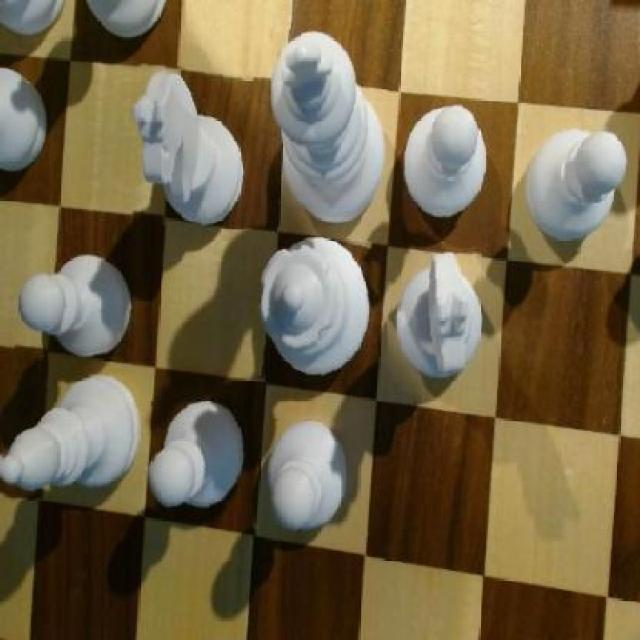black-rook: (0, 374, 142, 498)
white-bishop: (272, 28, 390, 226)
white-king: (134, 68, 251, 229), (391, 248, 487, 383)
white-knight: (526, 123, 631, 252), (15, 253, 136, 364), (403, 99, 492, 228), (151, 395, 246, 513), (266, 420, 351, 536)
white-pawn: (258, 234, 370, 386)
